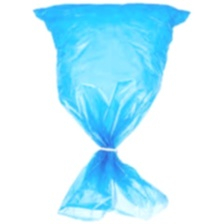plastic_bag: (28, 2, 197, 223)
